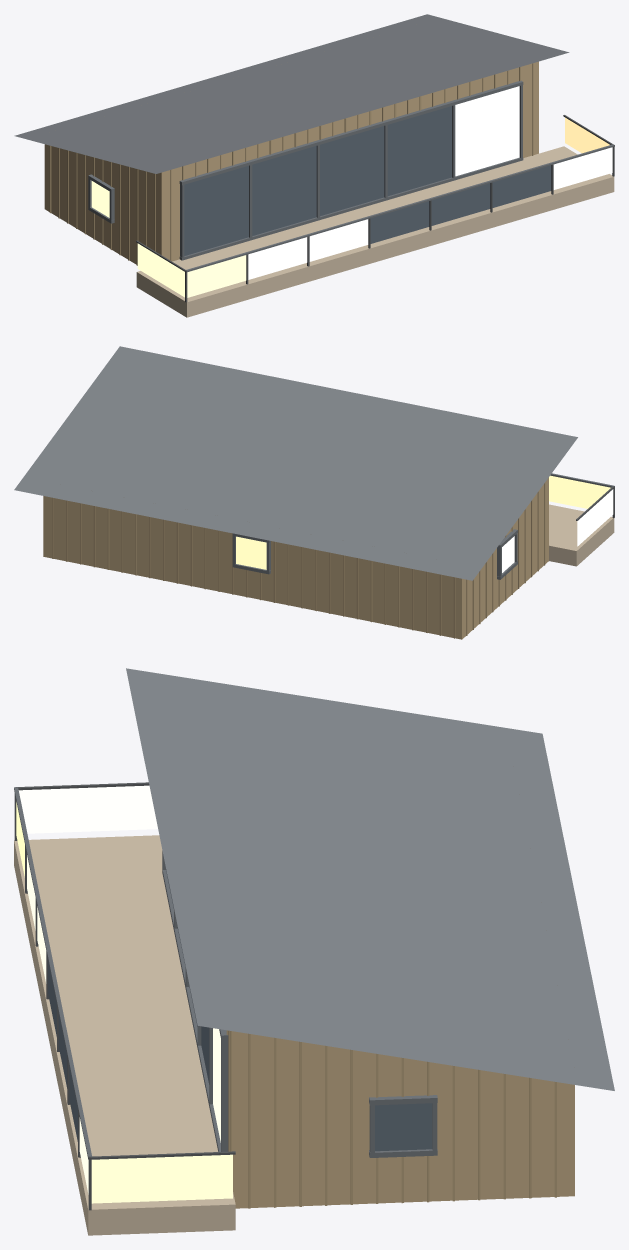
3 views of the same model, one above another, from view 1: azimuth 30°, elevation 25°; view 2: azimuth 150°, elevation 25°; view 3: azimuth 270°, elevation 25° (orthographic). The views are drawn at different scales.
Visible parts, largest first — view 1: windows, slate, door_wood, larch, slate_dk, door_wood_p, pipe; view 2: slate, door_wood, door_wood_p, windows, larch, slate_dk; view 3: slate, larch, door_wood, windows, slate_dk, door_wood_p, pipe.
Part boxes in pixels (box(x1,y1,x2,y2)): windows: box(91, 86, 612, 297); slate: box(14, 14, 569, 173); door_wood: box(44, 61, 538, 264); larch: box(136, 146, 614, 317); slate_dk: box(88, 80, 614, 271); door_wood_p: box(49, 63, 533, 265); pipe: box(136, 115, 614, 302); slate: box(14, 346, 577, 580); door_wood: box(43, 477, 548, 639); door_wood_p: box(52, 482, 545, 638); windows: box(236, 475, 613, 572); larch: box(549, 504, 614, 566); slate_dk: box(232, 473, 613, 579); slate: box(126, 668, 614, 1090); larch: box(14, 835, 235, 1235); door_wood: box(228, 1030, 574, 1208); windows: box(16, 785, 432, 1203); slate_dk: box(14, 787, 437, 1157); door_wood_p: box(226, 1030, 556, 1208); pipe: box(14, 782, 235, 1210).
Bounding box in the file's own units: 15.93 × 3.88 × 10.56.
